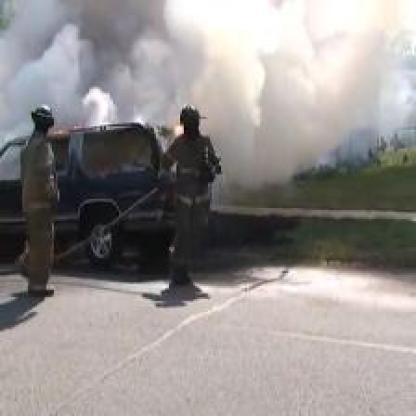smoke: (0, 0, 401, 154)
